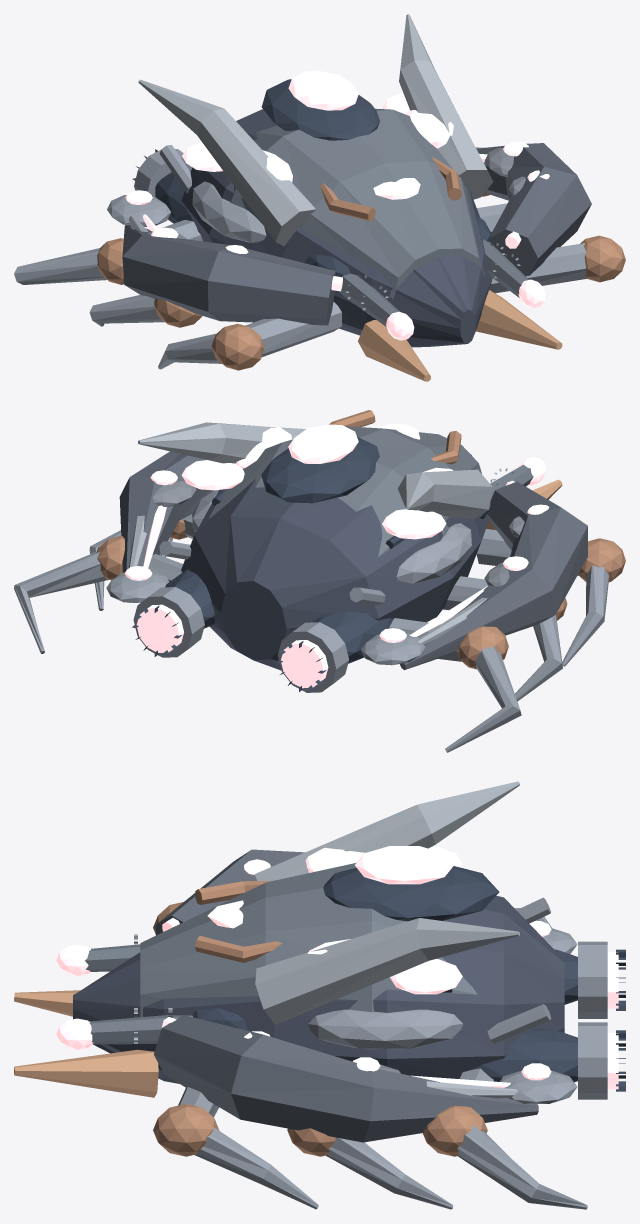
The model's file is npc_bossLordakia.glb.
3 renders of one model, top to bottom at view 1: azimuth 30°, elevation 25°; view 2: azimuth 150°, elevation 25°; view 3: azimuth 270°, elevation 25°, orthographic. The views are drawn at different scales.
Visible parts, largest first — view 1: upper_armor_scar, armored_scythe_-1, keel_pressure_hull, armored_scythe_1, prime_arch_back_-1, prime_arch_back_1, prime_reactor_tower, vrx_spider_leg_-1_0, vrx_spider_leg_-1_2, heavy_shield_pad_-1, prime_secondary_horn_1, prime_emitter (+23 smaller); view 2: keel_pressure_hull, armored_scythe_-1, upper_armor_scar, prime_reactor_tower, armored_scythe_1, prime_arch_back_-1, prime_arch_back_1, vrx_spider_leg_1_2, vrx_spider_leg_-1_2, vrx_spider_leg_-1_0, heavy_shield_pad_-1, vrx_spider_leg_-1_1 (+26 smaller); view 3: keel_pressure_hull, armored_scythe_1, upper_armor_scar, prime_arch_back_1, prime_reactor_tower, prime_arch_back_-1, heavy_shield_pad_1, prime_secondary_horn_1, vrx_spider_leg_1_2, vrx_spider_leg_1_0, engine_armor_1, prime_emitter (+24 smaller).
Part boxes in pixels (box(x1,y1,x2,y2)): upper_armor_scar: box(230, 108, 484, 299); armored_scythe_-1: box(122, 225, 335, 325); keel_pressure_hull: box(181, 109, 492, 347); armored_scythe_1: box(476, 143, 591, 276); prime_arch_back_-1: box(138, 79, 316, 246); prime_arch_back_1: box(399, 14, 493, 199); prime_reactor_tower: box(261, 79, 379, 140); vrx_spider_leg_-1_0: box(158, 302, 341, 369); vrx_spider_leg_-1_2: box(14, 220, 202, 284); heavy_shield_pad_-1: box(192, 181, 266, 242); prime_secondary_horn_1: box(476, 290, 562, 349); prime_emitter: box(288, 71, 358, 110); keel_pressure_hull: box(181, 453, 489, 670); armored_scythe_-1: box(400, 481, 587, 670); upper_armor_scar: box(208, 426, 481, 556); prime_reactor_tower: box(261, 436, 379, 503); armored_scythe_1: box(119, 451, 212, 602); prime_arch_back_-1: box(397, 469, 492, 519); prime_arch_back_1: box(138, 422, 305, 463); vrx_spider_leg_1_2: box(14, 551, 183, 653); vrx_spider_leg_-1_2: box(389, 618, 521, 752); vrx_spider_leg_-1_0: box(476, 529, 609, 666); heavy_shield_pad_-1: box(396, 523, 471, 584); vrx_spider_leg_-1_1: box(443, 576, 562, 701); keel_pressure_hull: box(73, 895, 564, 1083); armored_scythe_1: box(154, 1015, 538, 1142); upper_armor_scar: box(140, 863, 477, 1017); prime_arch_back_1: box(255, 918, 519, 1024); prime_reactor_tower: box(323, 866, 499, 921); prime_arch_back_-1: box(254, 781, 519, 880); heavy_shield_pad_1: box(308, 1009, 462, 1049); prime_secondary_horn_1: box(14, 1049, 158, 1097); vrx_spider_leg_1_2: box(457, 1068, 587, 1209); vrx_spider_leg_1_0: box(178, 1087, 318, 1209); engine_armor_1: box(460, 1028, 577, 1082); prime_emitter: box(354, 846, 453, 884).
Bounding box in the file's own units: 3.65 × 1.46 × 3.32.
